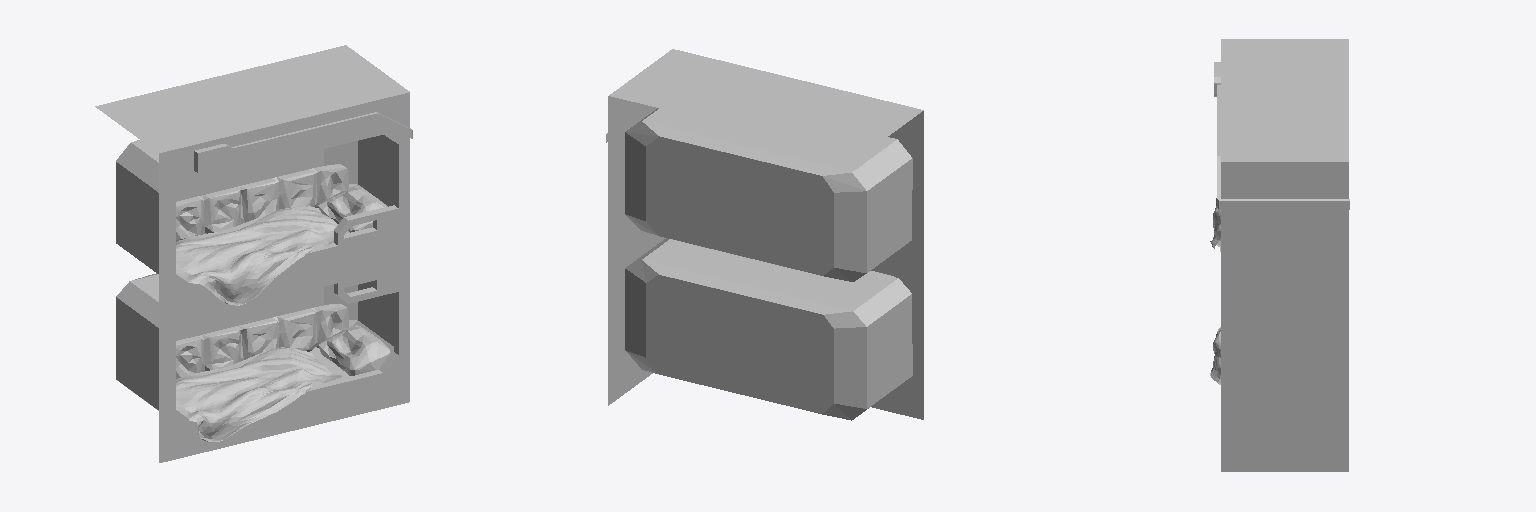
File: Bed.obj
3 views of the same model, side by side, from view 1: azimuth 30°, elevation 25°; view 2: azimuth 150°, elevation 25°; view 3: azimuth 270°, elevation 25° (orthographic).
Parts seen in each view (by area): view 1: Bed001, Group4582, Group4583, Bed002, Bed; view 2: Bed001; view 3: Bed001.
Part boxes in pixels (left/top/right/bottom): Bed001: left=95, top=45, right=412, bottom=462; Group4582: left=176, top=206, right=349, bottom=305; Group4583: left=176, top=347, right=341, bottom=441; Bed002: left=176, top=304, right=390, bottom=378; Bed: left=176, top=164, right=386, bottom=241; Bed001: left=606, top=49, right=923, bottom=420; Bed001: left=1214, top=39, right=1349, bottom=471.
Size of the model in its own units: 141 by 165 by 67.42.